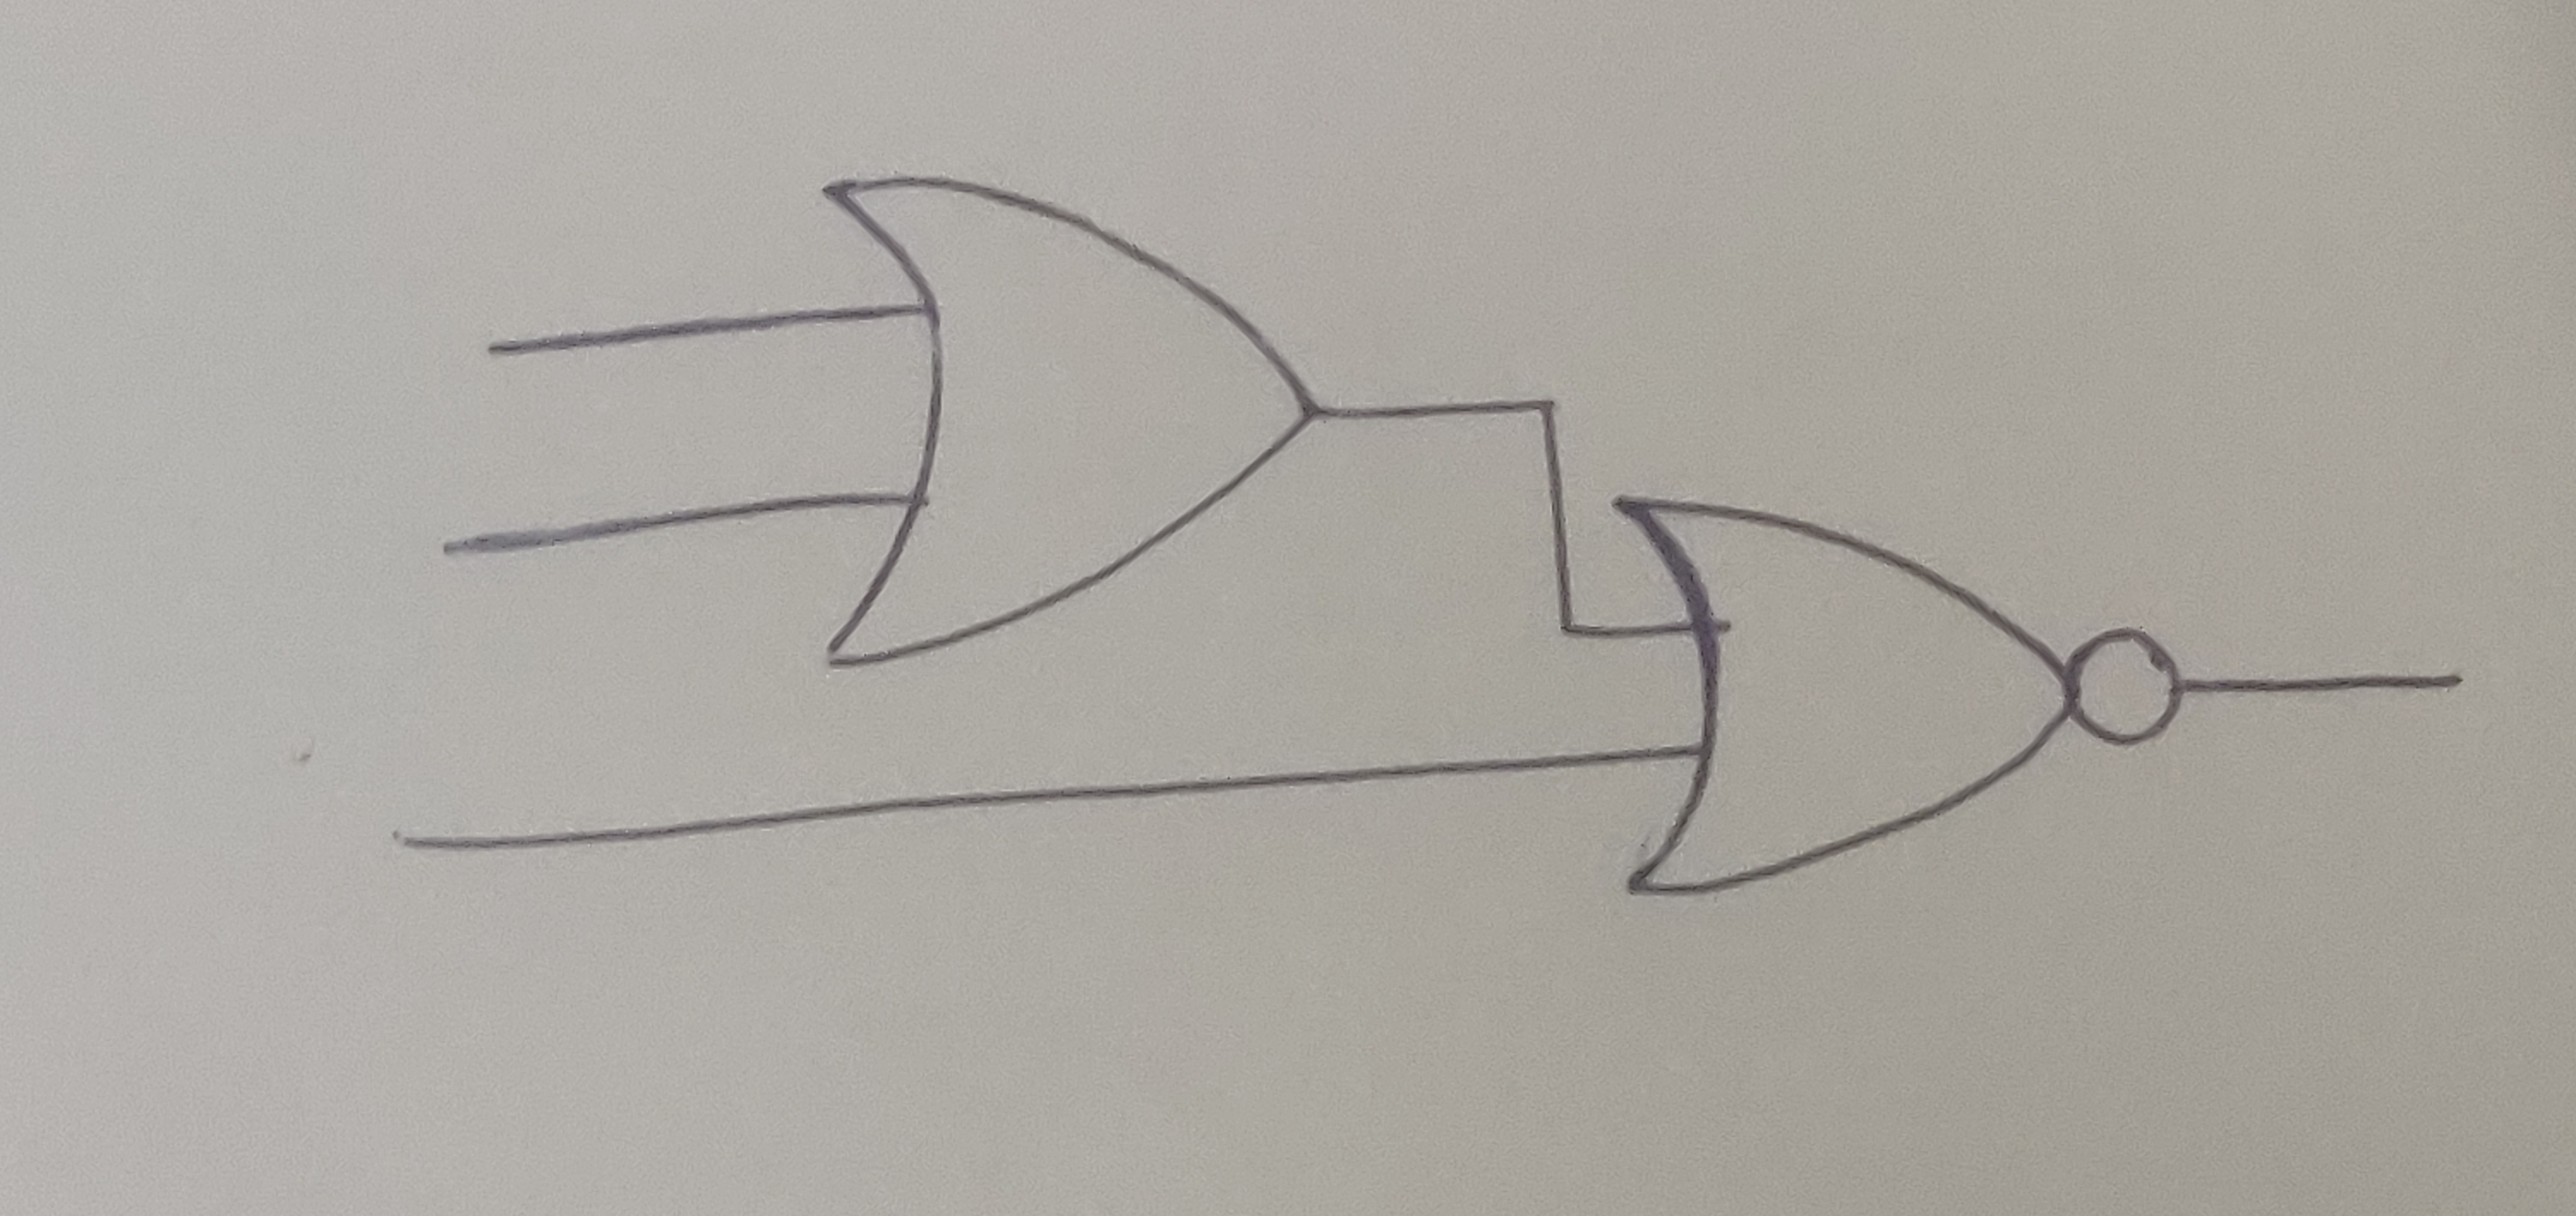not: (2060, 624, 2195, 759)
or: (813, 168, 1321, 680), (1610, 496, 2073, 904)
